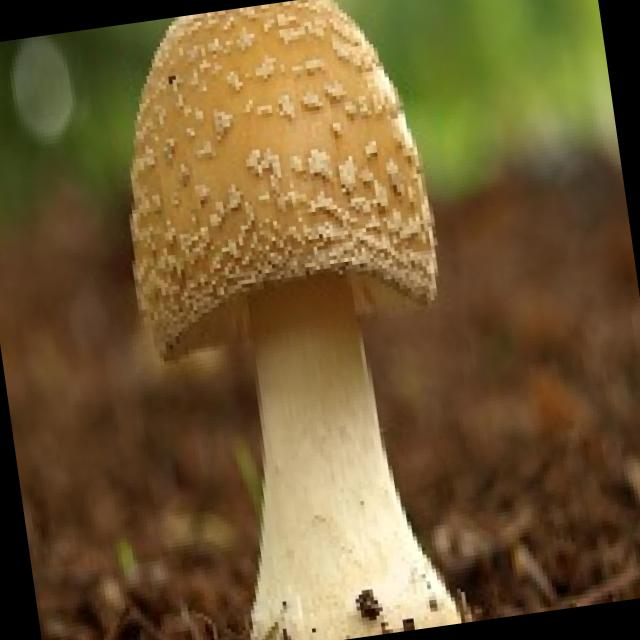mushroom: (88, 0, 487, 640)
